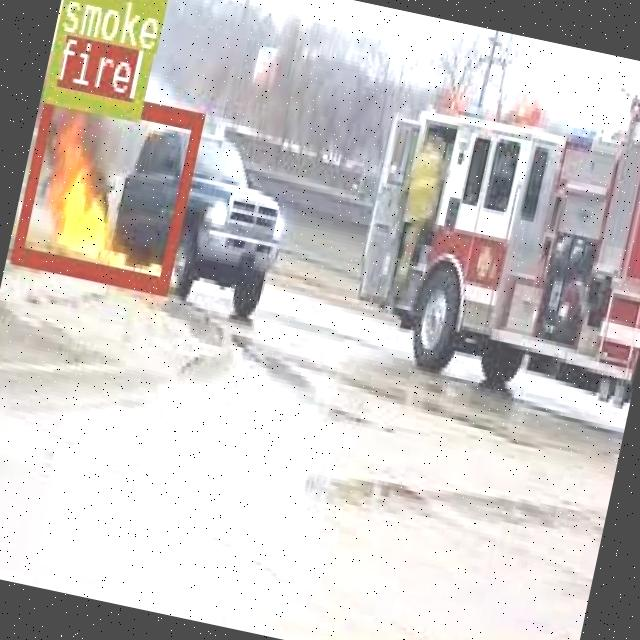fire: (10, 80, 202, 290)
smoke: (41, 0, 164, 117)
